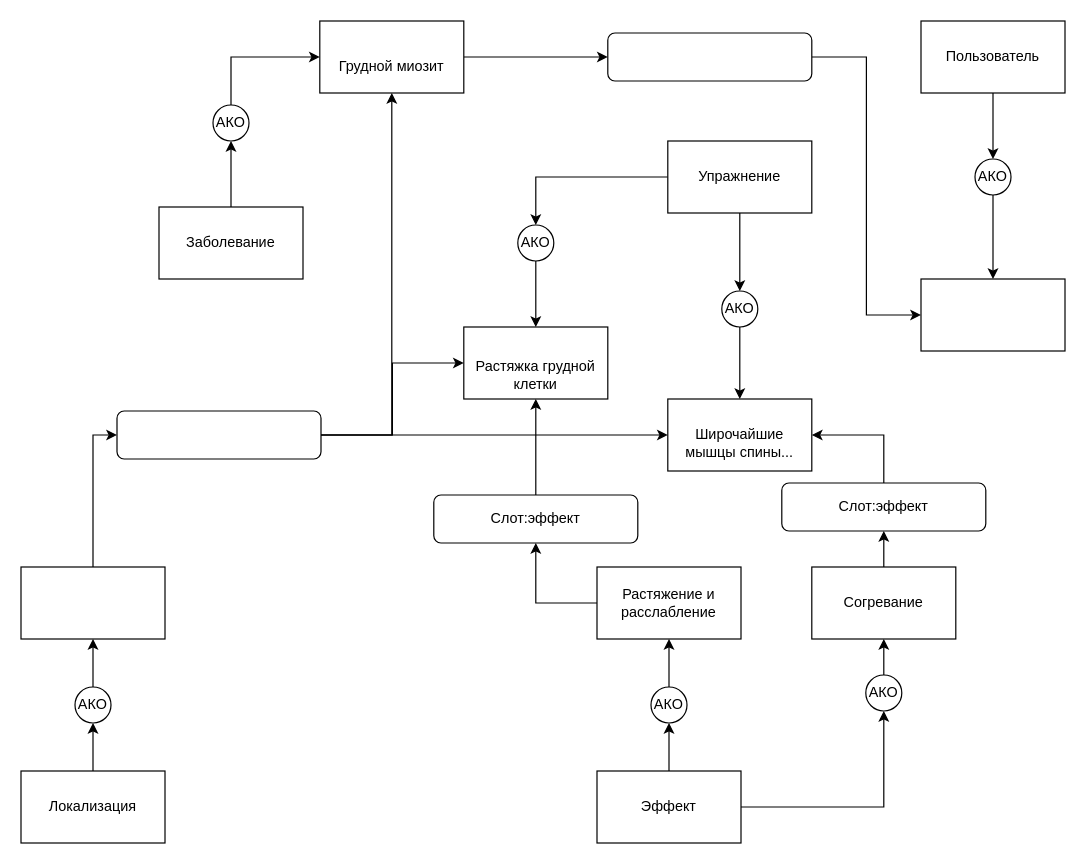
This 1086x864 diagram has some shape labels left out. The centre of each missing label's shape, as x and y in pixels:
"Грудной отдел" belongs at point (92, 602).
"Дмитрий" belongs at point (992, 314).
"Слот:заболевание" belongs at point (709, 56).
"Слот:локализация" belongs at point (218, 434).
